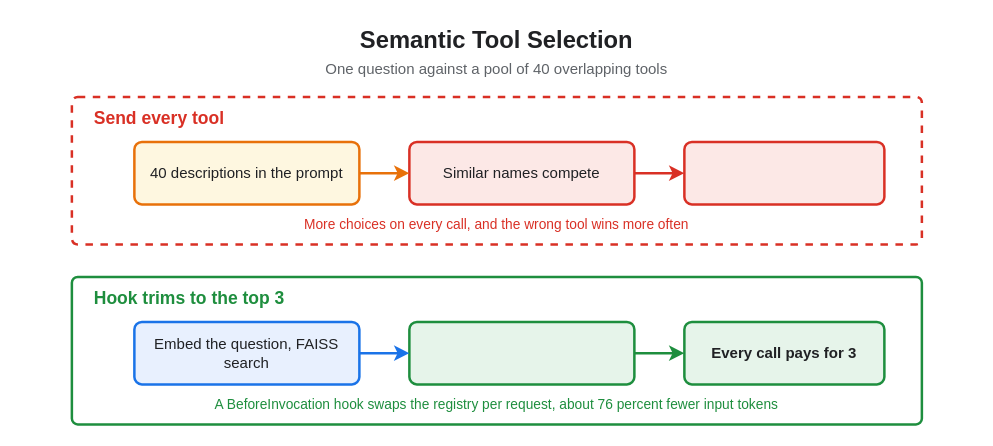
Image size: 993x446. Some labels were removed from this diagram. The centre of each missing label's shape, as x and y in pixels:
"Every call pays for 40" goes at point (783, 172).
"Registry holds 3 tools" goes at point (521, 352).
